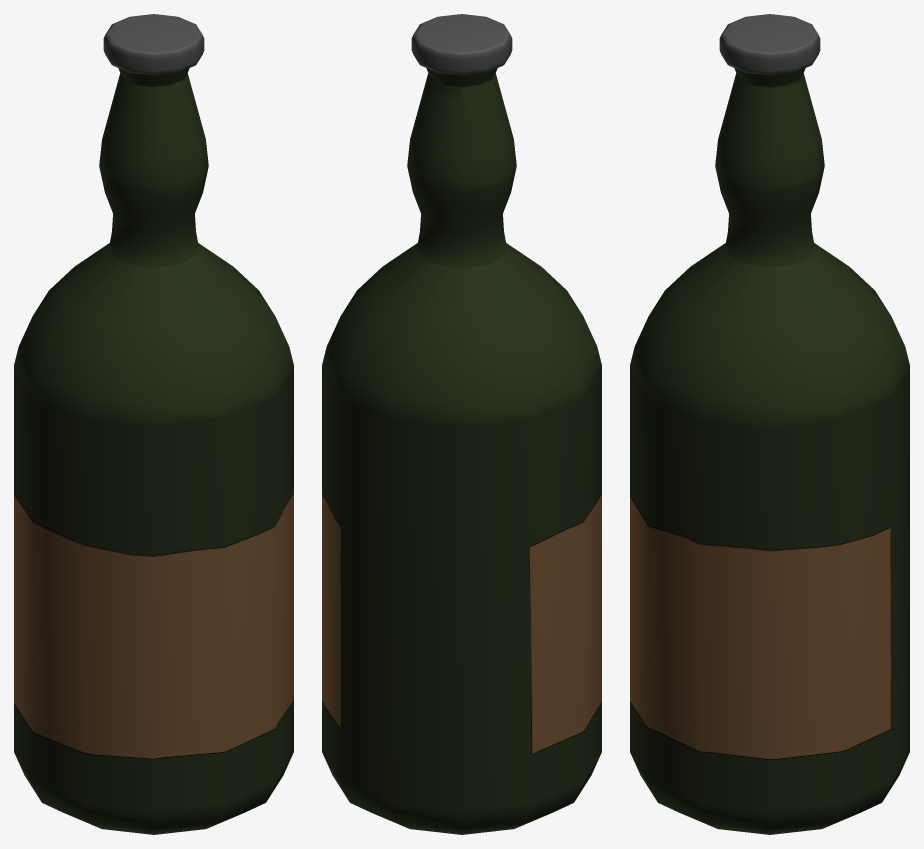
The model's file is Bottle03.fbx.
The picture shows the model from 3 angles, left to right: view 1: azimuth 30°, elevation 25°; view 2: azimuth 150°, elevation 25°; view 3: azimuth 270°, elevation 25°; orthographic projection.
Parts seen in each view (by area): view 1: Bottle3; view 2: Bottle3; view 3: Bottle3.
Boxes of the visible parts, left/top/right/bottom form: Bottle3: left=14, top=14, right=293, bottom=834; Bottle3: left=322, top=14, right=601, bottom=834; Bottle3: left=630, top=14, right=909, bottom=834.
Bounding box in the file's own units: 34.5 × 103 × 34.5.
